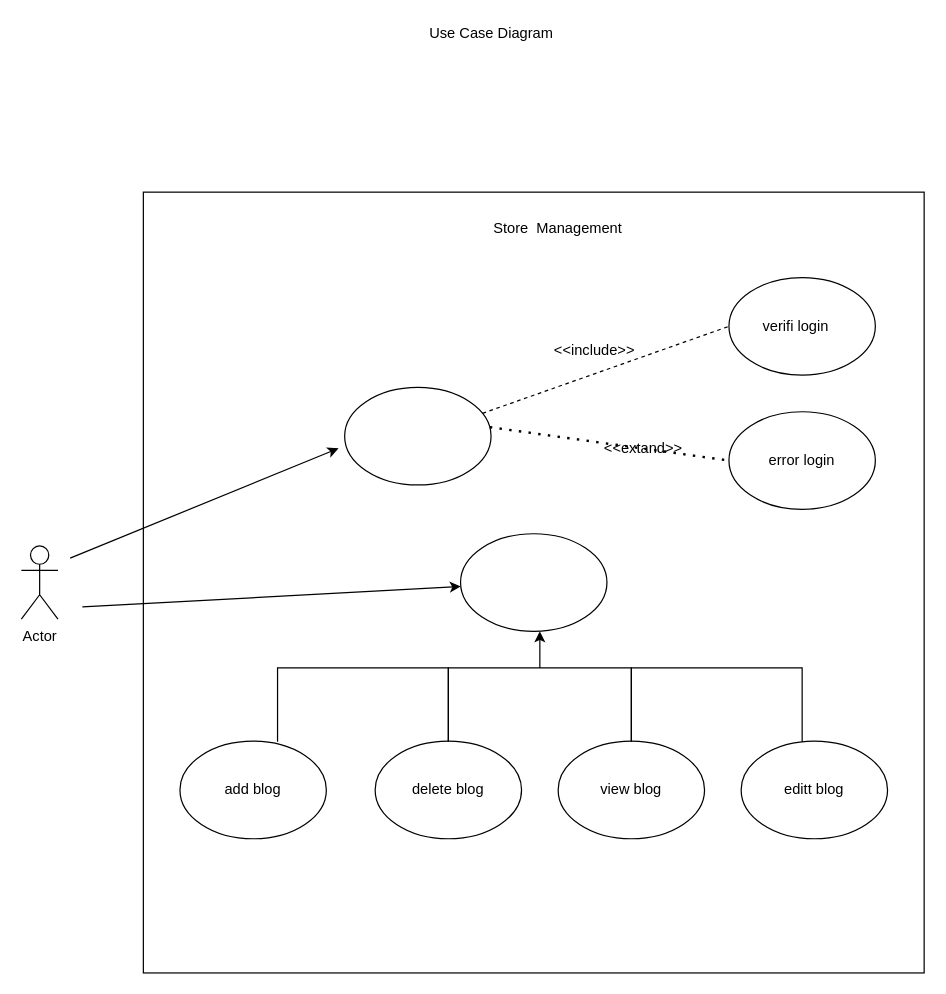
The diagram is 946 pixels wide and 994 high, and some of its shapes have lost their labels. The shapes that lost their labels are listed below. From the top down, each one's box as (x1, y1, x2, y2) in pixels, then its label:
(343, 386, 491, 485): login
(459, 533, 607, 631): manager
